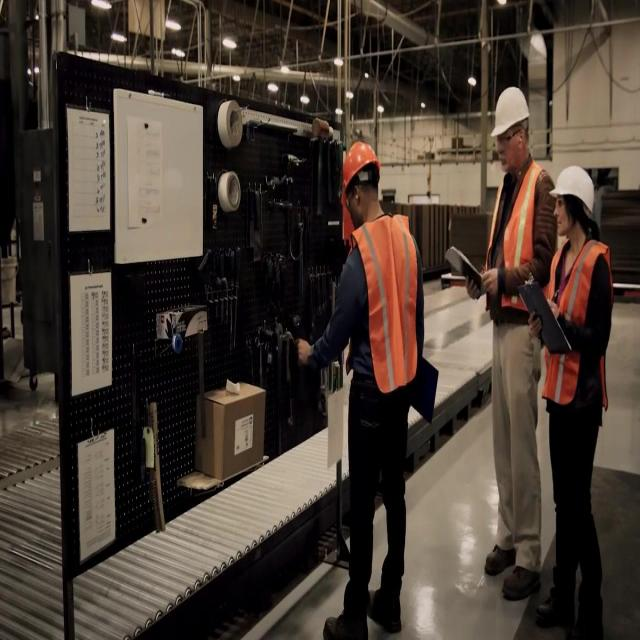Reflective-Jacket: (337, 212, 433, 414), (536, 236, 622, 423), (478, 159, 554, 332)
Safety-Helmet: (546, 156, 602, 226), (485, 76, 535, 146), (337, 133, 387, 202), (173, 333, 183, 353)
